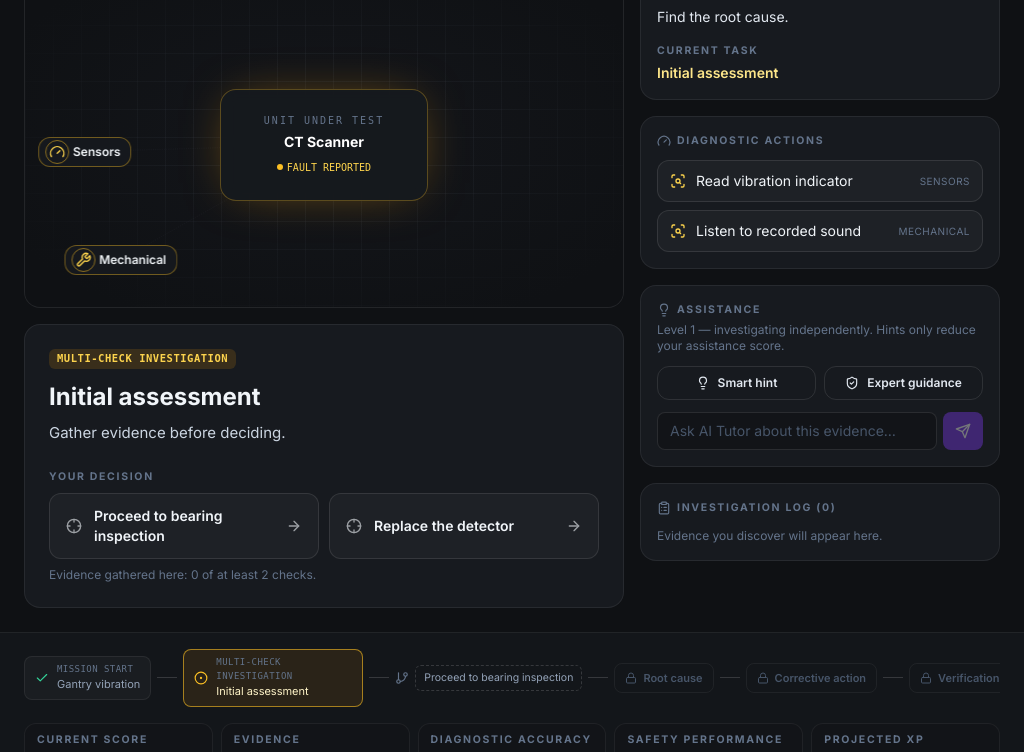
Scenario: Mission player › uses graded hints
(page scrolled)
Click the button "Smart hint". click: (736, 383)
box: [657, 366, 816, 400]
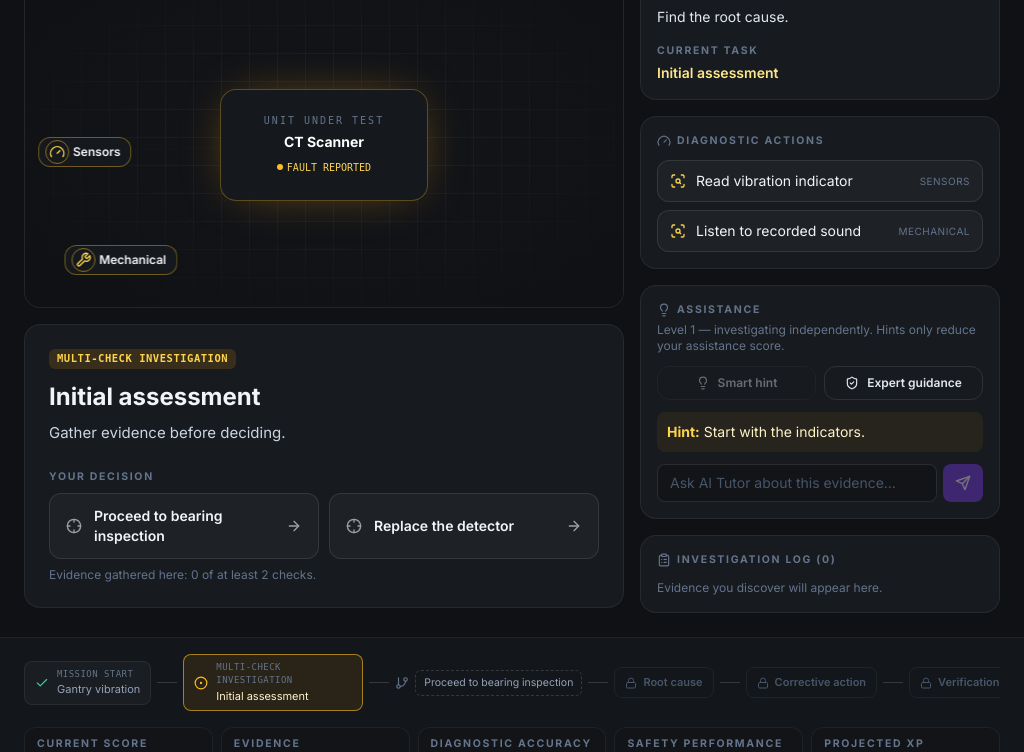
Now the text "Start with the indicators." is shown, box [704, 423, 865, 440]
